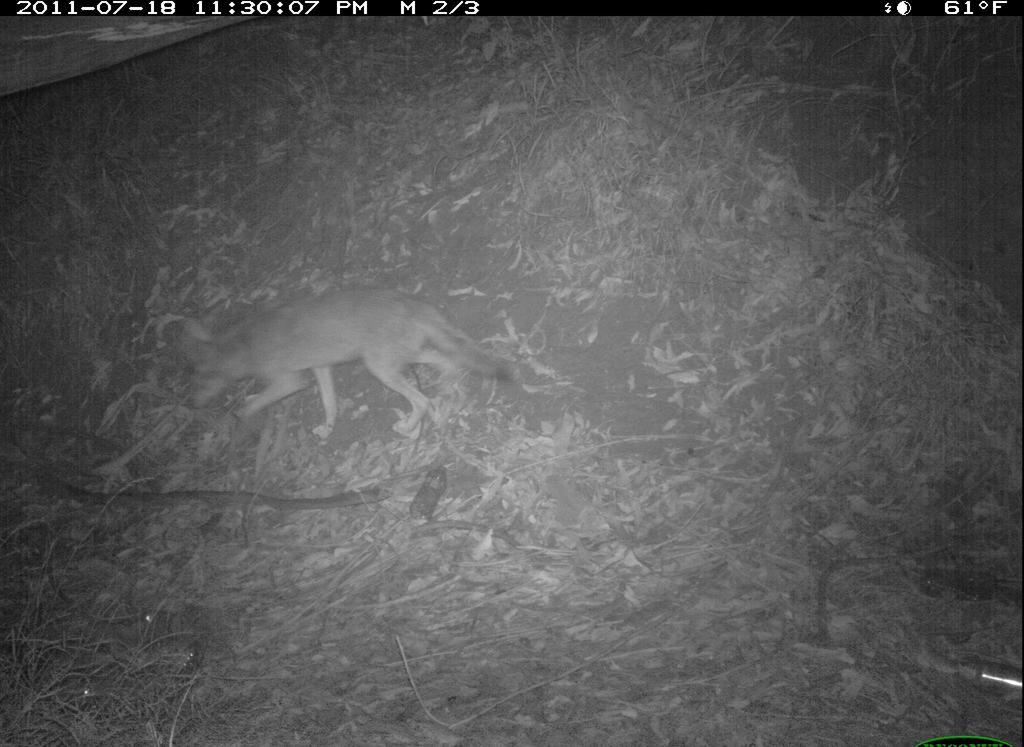coyote: (169, 286, 516, 442)
